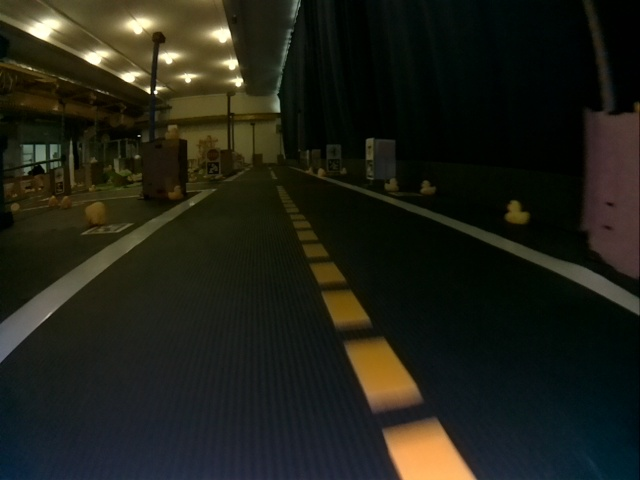Duckie: (505, 201, 529, 223), (85, 202, 107, 222), (420, 182, 435, 194), (170, 186, 181, 200), (385, 179, 397, 191)
QR code: (84, 225, 130, 233)
